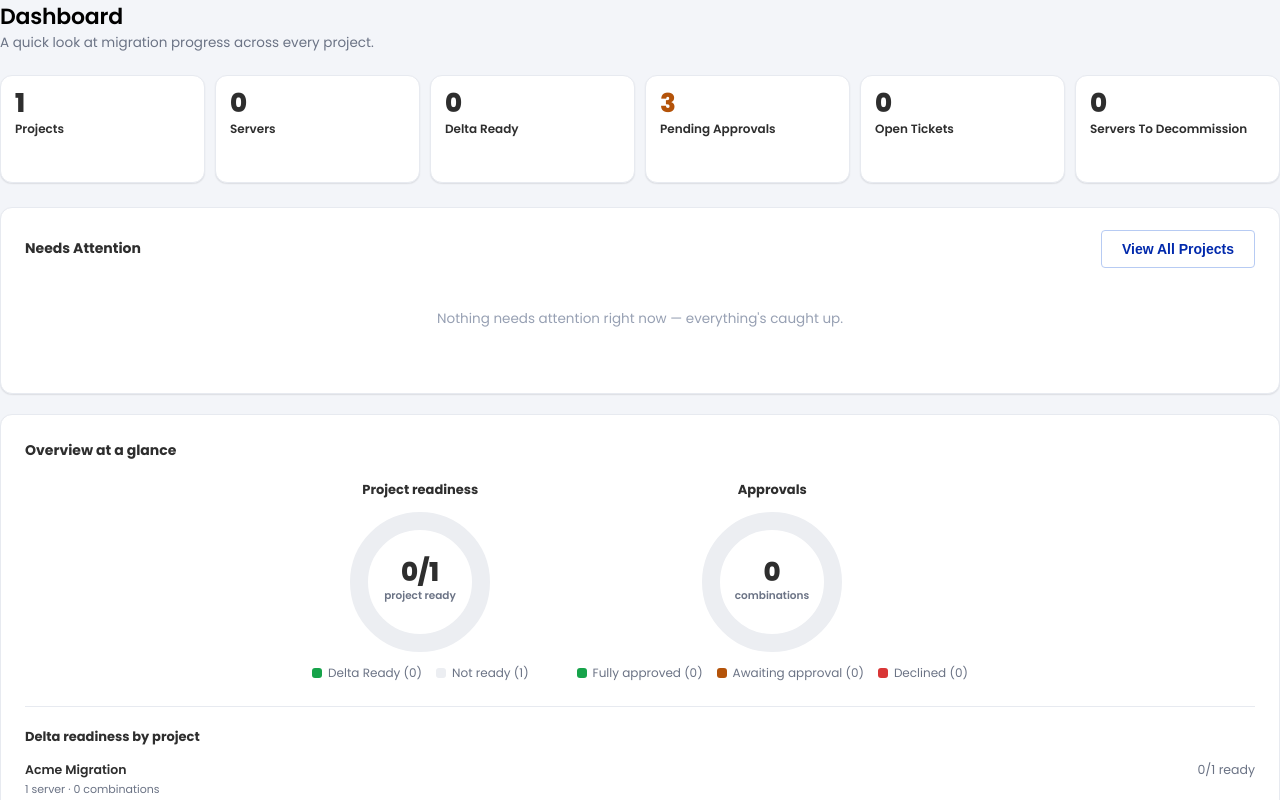
Test case: Dashboard server popups › an empty Delta Ready list says so rather than showing a blank dialog
Expected: the heading "Dashboard" is shown, [0,1,123,32]
Click the button "0 Delta Ready".
click(532, 129)  # box [430,75,635,183]
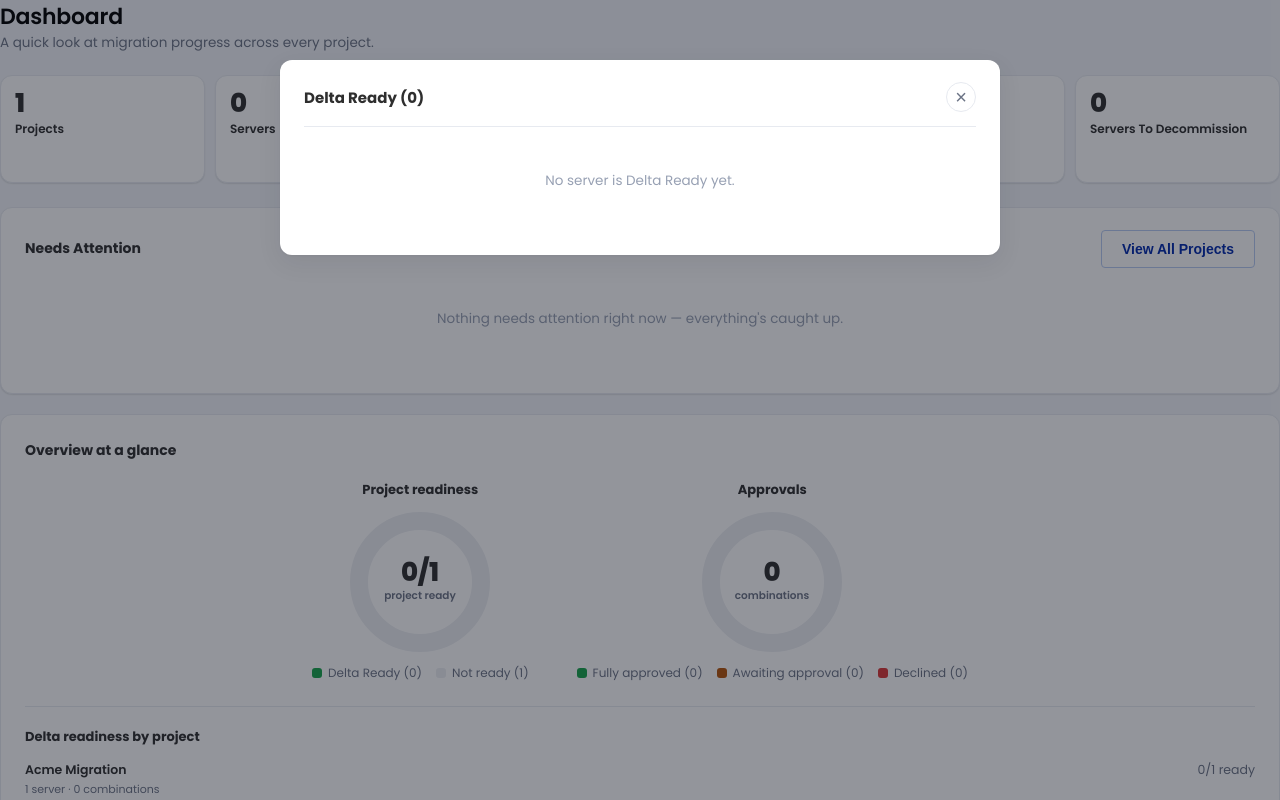
Expected: the text "No server is Delta Ready yet." is shown, [545,171,735,190]
